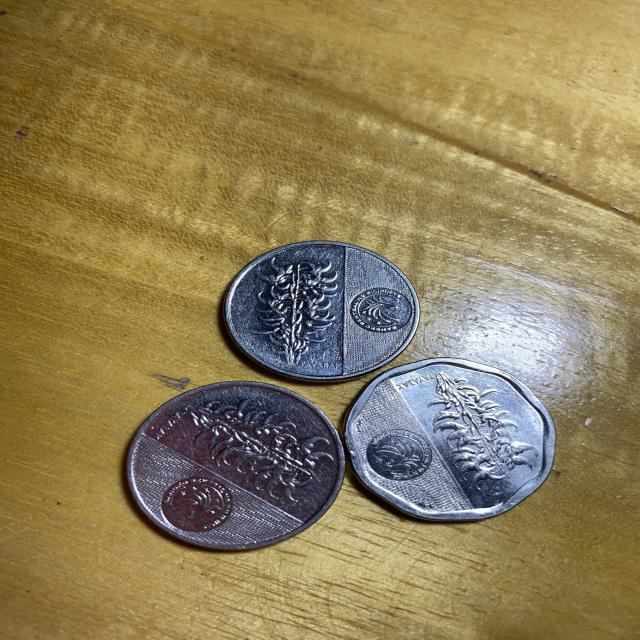5_New_Back: (179, 398, 334, 498), (424, 366, 529, 488), (241, 259, 343, 372)
